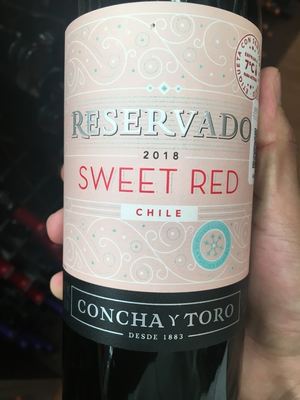reservado sweet red: (53, 6, 266, 400)
